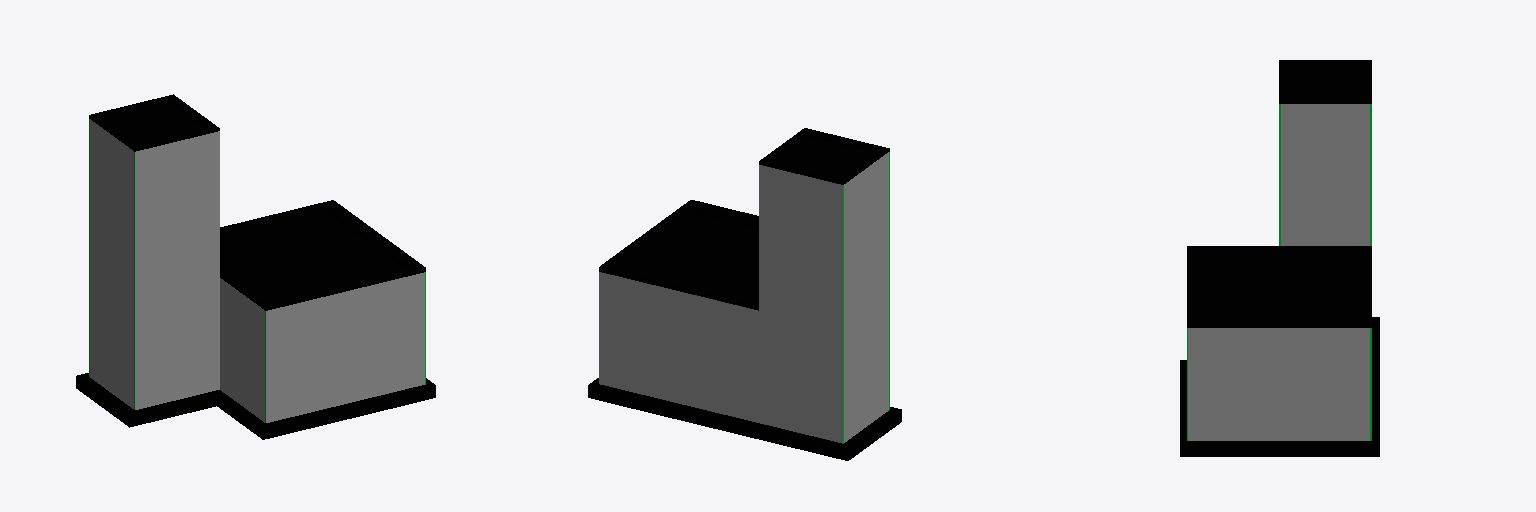
The model's file is 2squerbuild.obj.
The picture shows the model from 3 angles: view 1: azimuth 30°, elevation 25°; view 2: azimuth 150°, elevation 25°; view 3: azimuth 270°, elevation 25°; orthographic projection.
Visible parts, largest first — view 1: Cube.004_Cube.006; view 2: Cube.004_Cube.006; view 3: Cube.004_Cube.006.
Boxes of the visible parts, x1,y1,x2,y2 form: Cube.004_Cube.006: [76, 94, 435, 439]; Cube.004_Cube.006: [588, 128, 901, 460]; Cube.004_Cube.006: [1180, 60, 1379, 456].
Size of the model in its own units: 4.37 by 4.39 by 2.9.